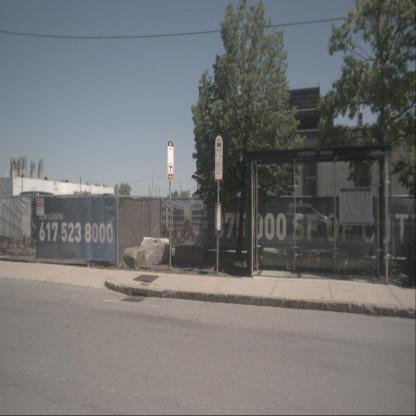vehicle-car: (284, 203, 334, 236)
